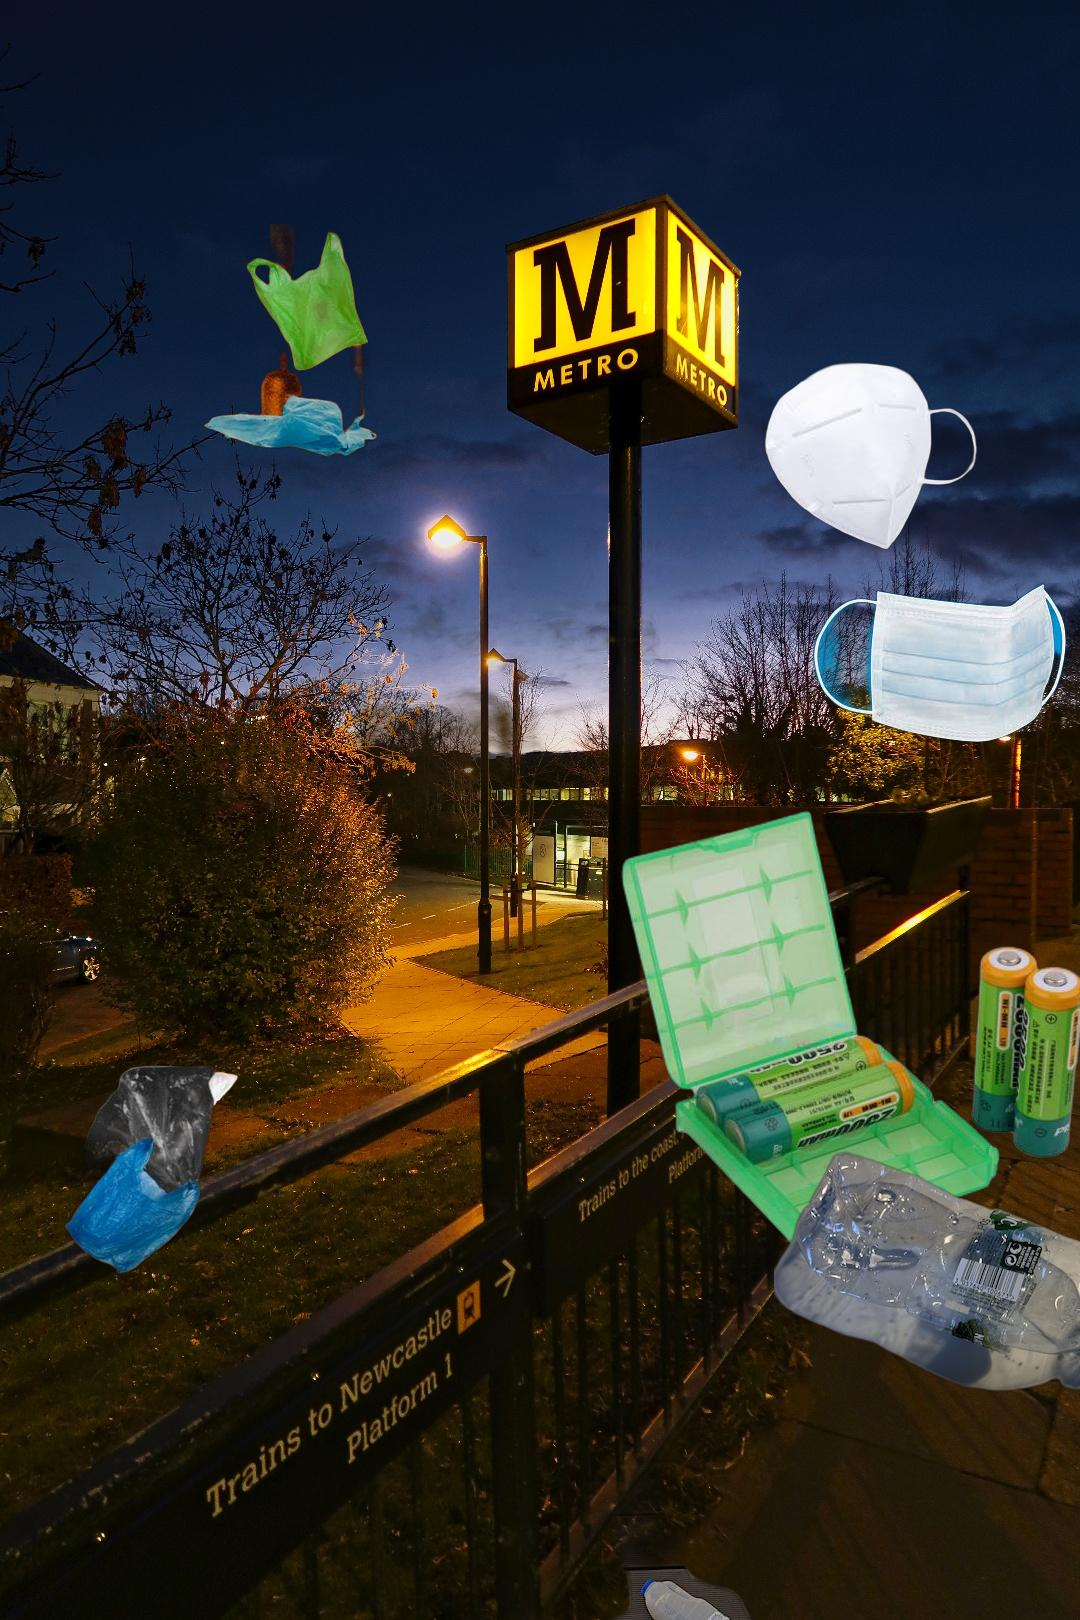battery: (618, 808, 1080, 1261)
biological: (110, 554, 661, 863)
plastic-bag: (202, 224, 378, 459), (61, 1063, 241, 1276)
plastic-bottles: (774, 1078, 1080, 1398), (495, 1465, 829, 1620)
trash: (810, 579, 1069, 745), (762, 360, 979, 552)
